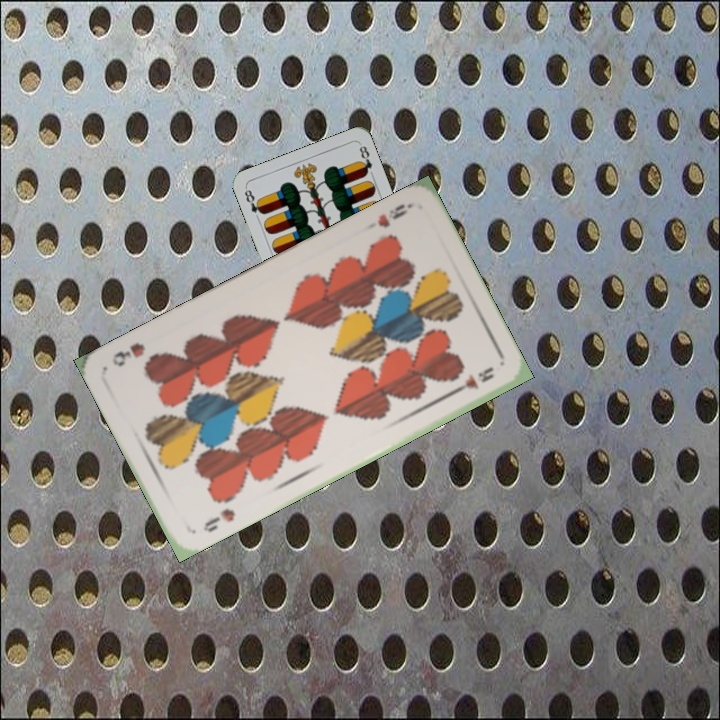E8: (240, 185, 267, 217)
H9: (373, 199, 415, 230), (199, 504, 238, 535)
